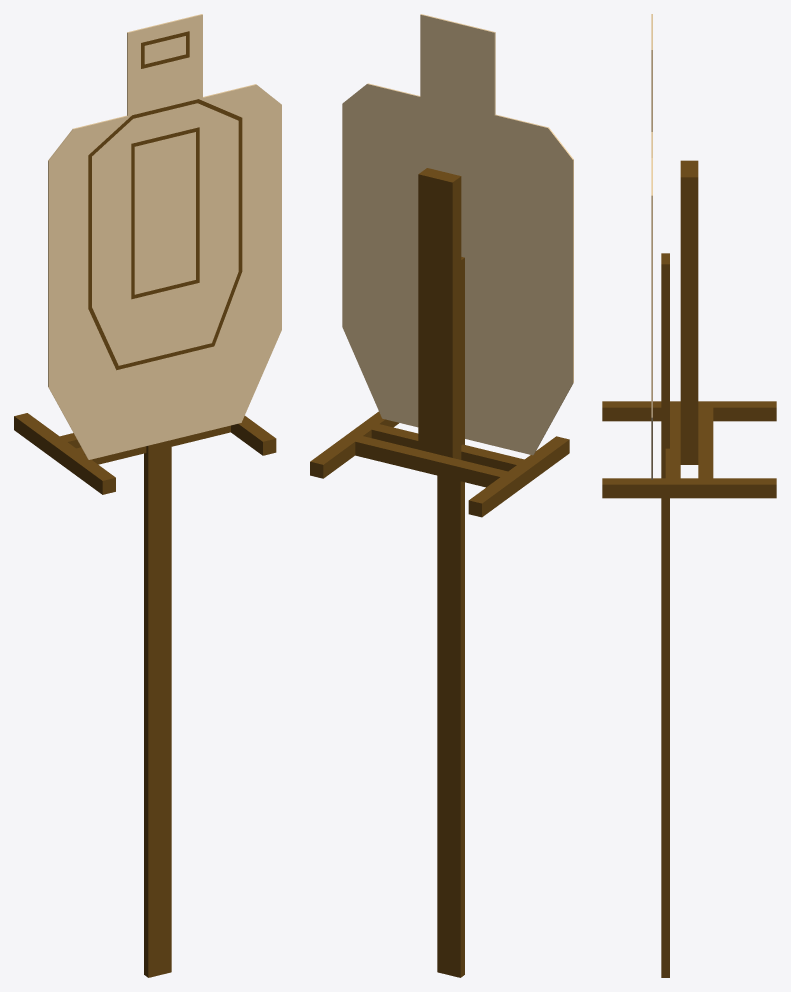
Rendered from USPSA_metric.obj.
3 views of the same model, side by side, from view 1: azimuth 30°, elevation 25°; view 2: azimuth 150°, elevation 25°; view 3: azimuth 270°, elevation 25° (orthographic).
Parts seen in each view (by area): view 1: target_geometry11, plank_geometry6, zones_geometry16, stand_geometry1; view 2: target_geometry11, stand_geometry1, plank_geometry6; view 3: stand_geometry1, plank_geometry6, target_geometry11.
Boxes of the visible parts, x1,y1,x2,y2 form: target_geometry11: (48,14,281,459); plank_geometry6: (144,440,171,977); zones_geometry16: (88,31,242,370); stand_geometry1: (14,413,276,494); target_geometry11: (342,14,573,455); stand_geometry1: (310,168,569,517); plank_geometry6: (437,257,464,977); stand_geometry1: (602,160,776,498); plank_geometry6: (661,253,669,977); target_geometry11: (651,14,652,479).
Size of the model in its own units: 0.4379 by 1.71 by 0.288.
